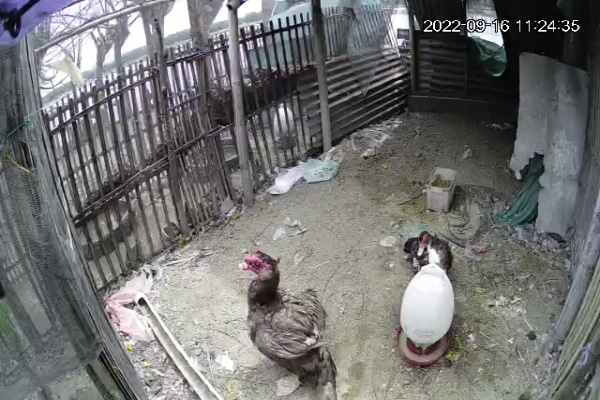Entog: (232, 247, 340, 395), (400, 229, 454, 271)
